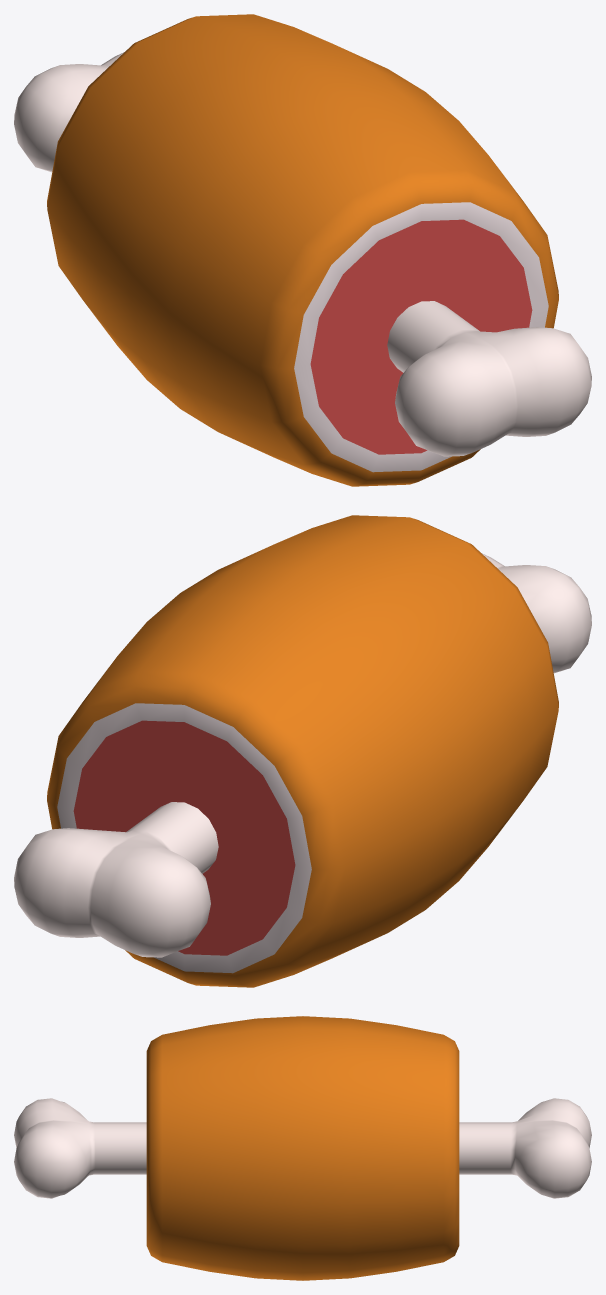
Rendered from Meat_on_Bone.fbx.
The picture shows the model from 3 angles, top to bottom: view 1: azimuth 30°, elevation 25°; view 2: azimuth 150°, elevation 25°; view 3: azimuth 270°, elevation 25°; orthographic projection. The views are drawn at different scales.
Parts seen in each view (by area): view 1: Meat_on_Bone; view 2: Meat_on_Bone; view 3: Meat_on_Bone.
Boxes of the visible parts, x1,y1,x2,y2 form: Meat_on_Bone: (14,14,591,486); Meat_on_Bone: (14,515,591,987); Meat_on_Bone: (14,1016,591,1280).
Size of the model in its own units: 14.01 by 14.01 by 30.56.
